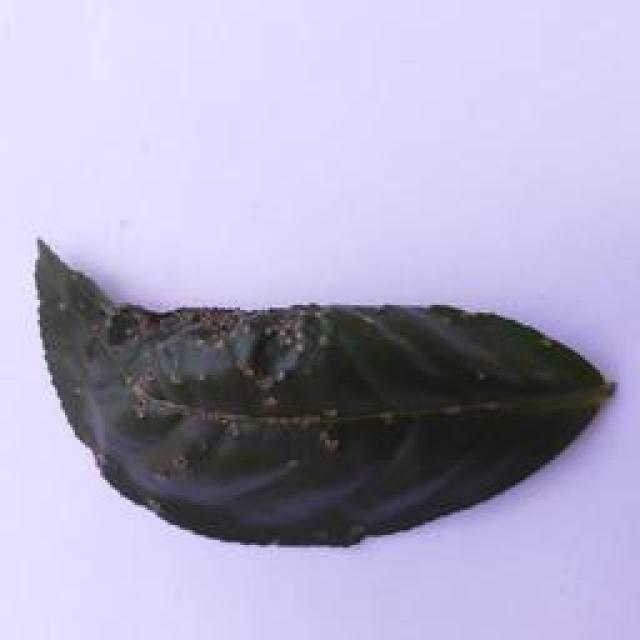Helopeltis: (25, 222, 622, 552)
